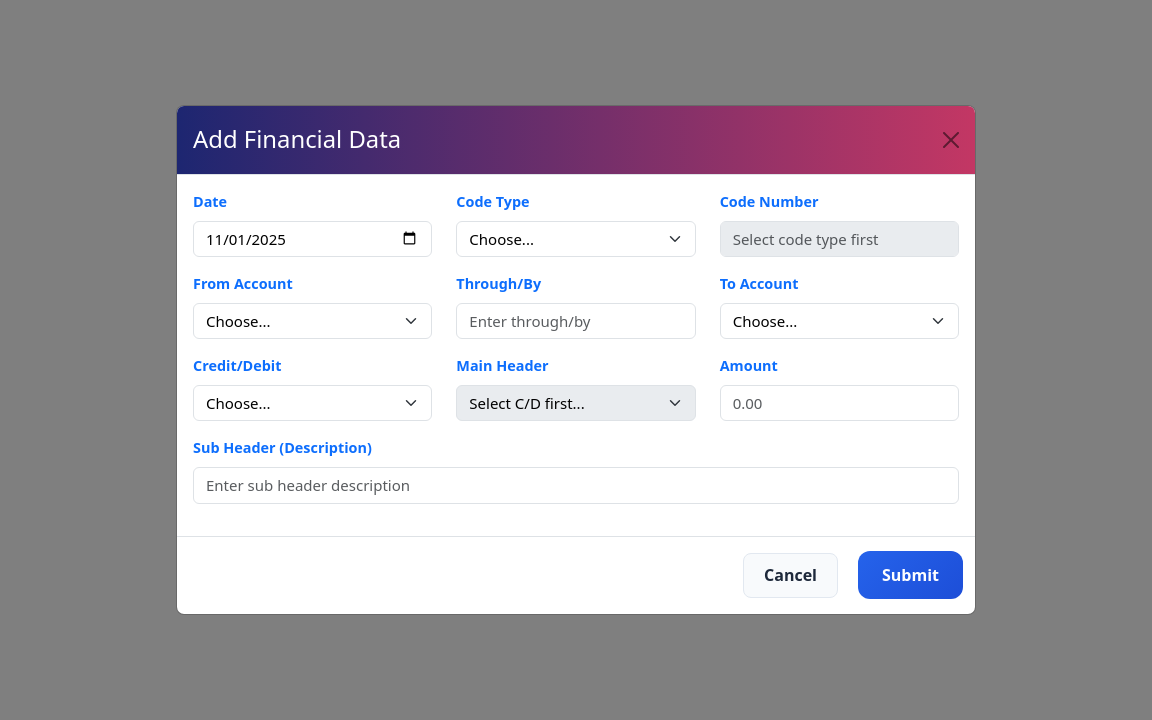
AddFinancialDataModal › conditionally renders 'Meter Readings' when mainHeader includes 'WAGE_FUEL'
Select "Debit" in the dropdown below "Credit/Debit". click: coordinates (313, 403)
box: [193,385,432,421]
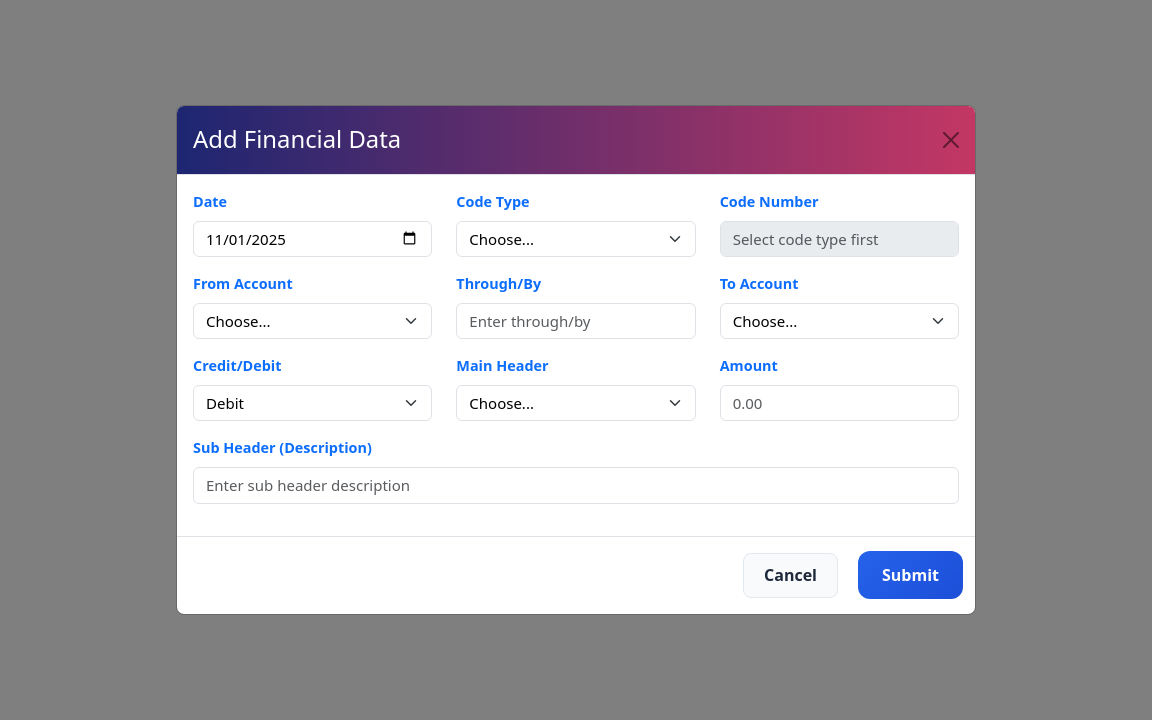
Select "OFFICE EXPENCES_PAYROLL AND WAGE_FUEL" in the dropdown below "Main Header". click: coordinates (576, 403)
box: [456,385,696,421]
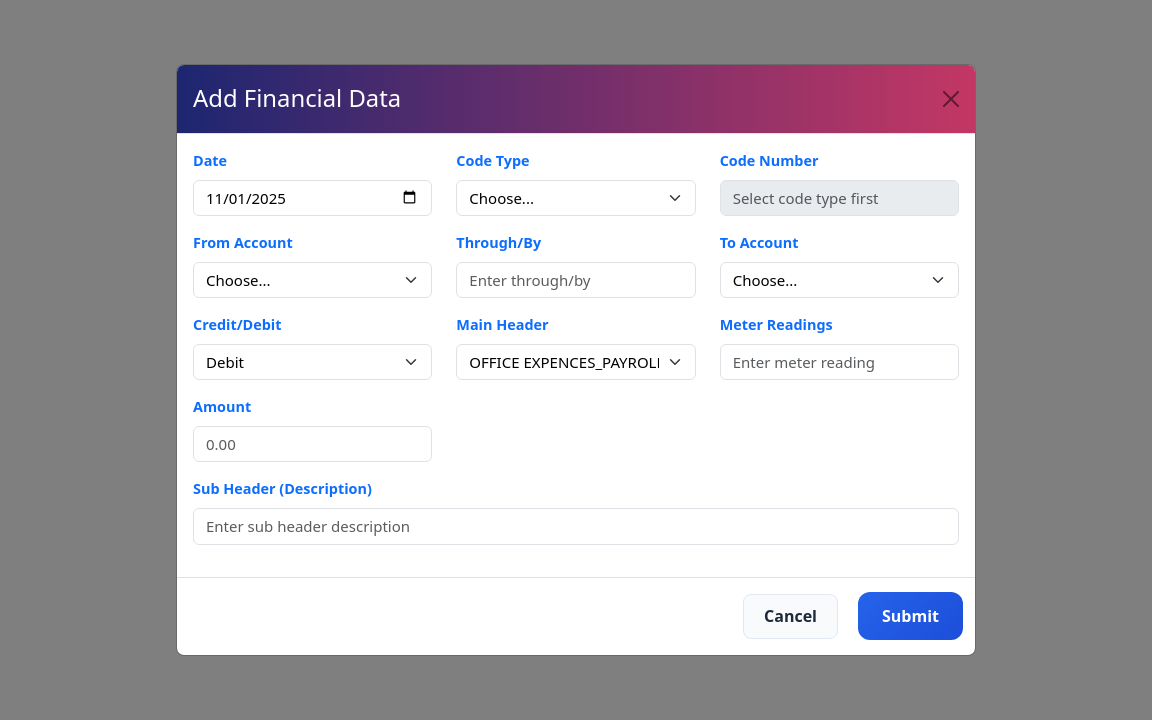
Now the text "Meter Readings" is shown, box [720,315,833,334]
